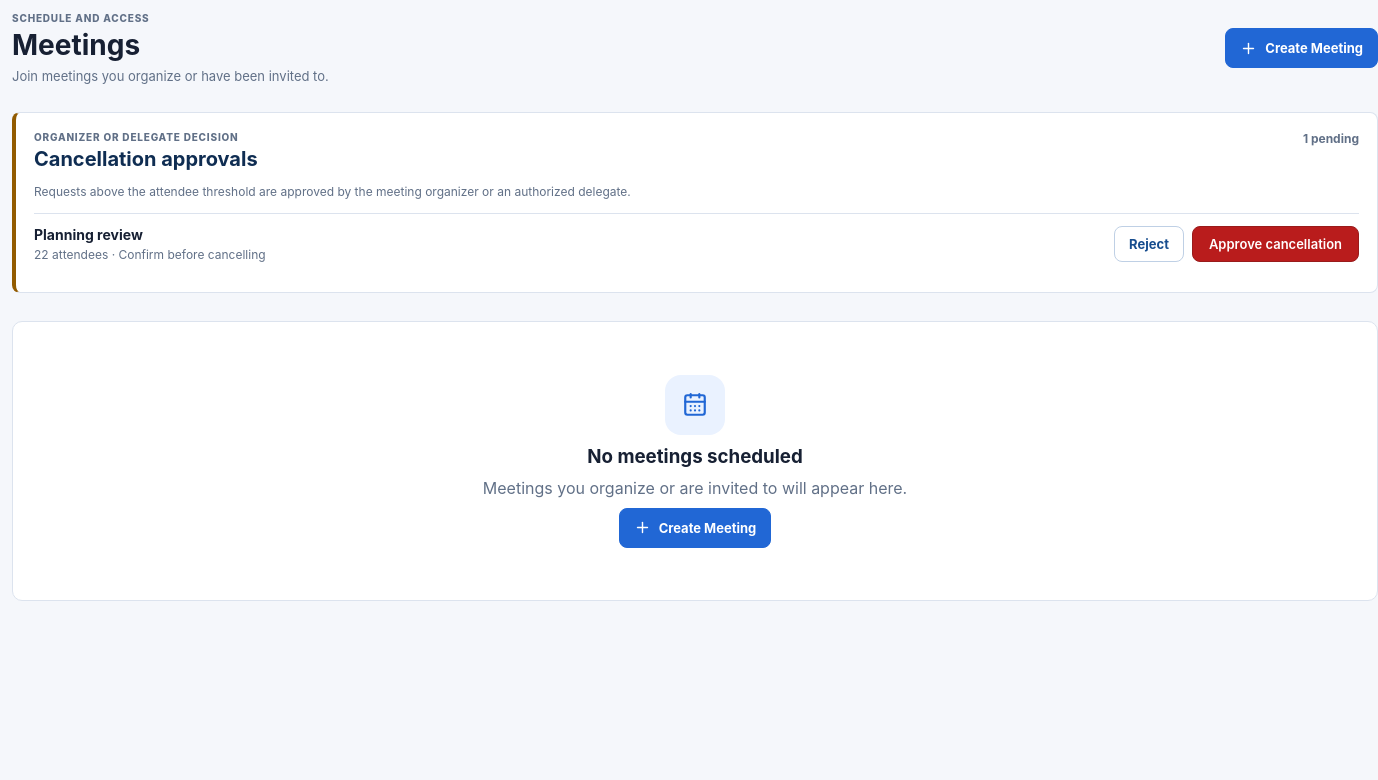
Scenario: MeetingsPage organization timezone display › shows pending cancellation requests and lets an authorized user reject them
This screenshot has width=1378, height=780.
Check: the heading "Cancellation approvals" is shown, box [34,147,258,171]
Check: the text "22 attendees · Confirm before cancelling" is shown, box [34,247,266,262]
Step 1. Click the button "Reject" → {"x": 1149, "y": 244}, box [1114,226,1184,262]
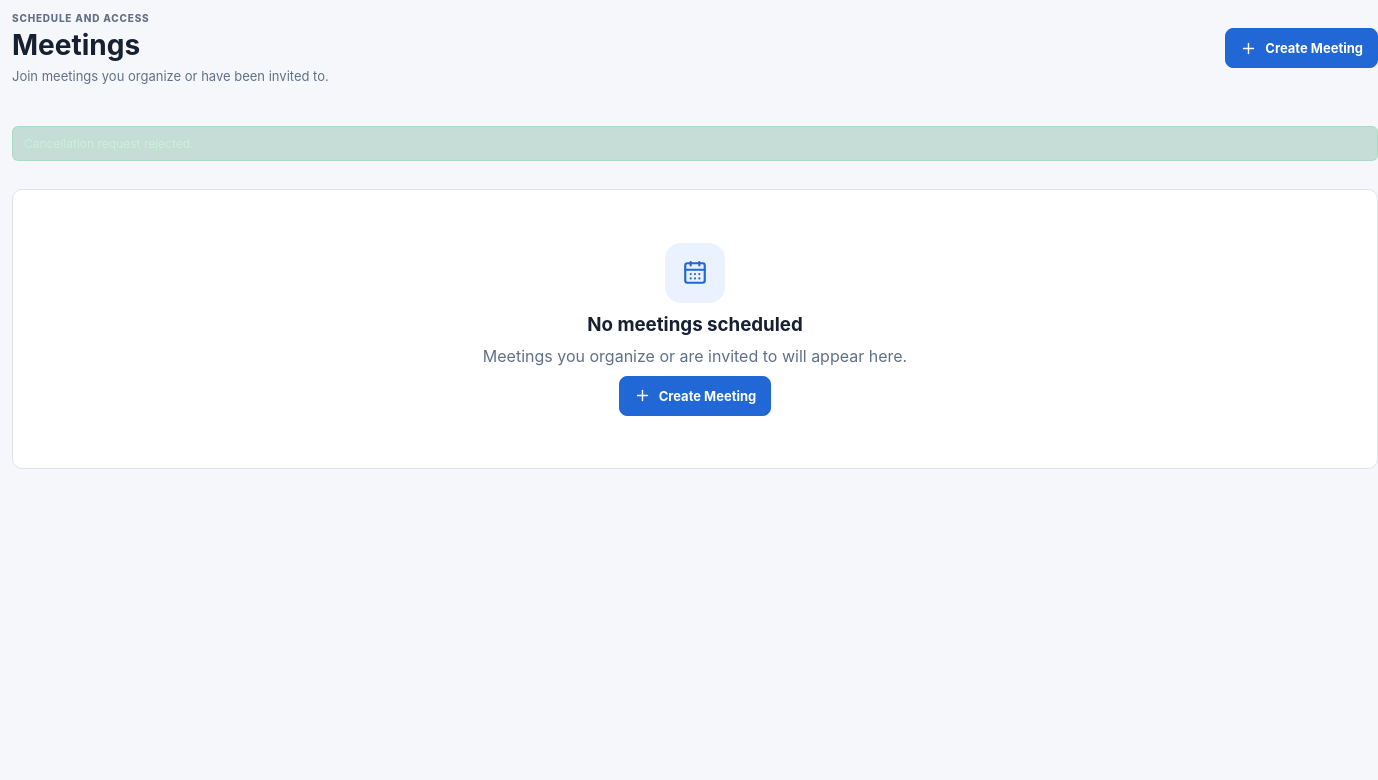
Check: the heading "Planning review" is gone
